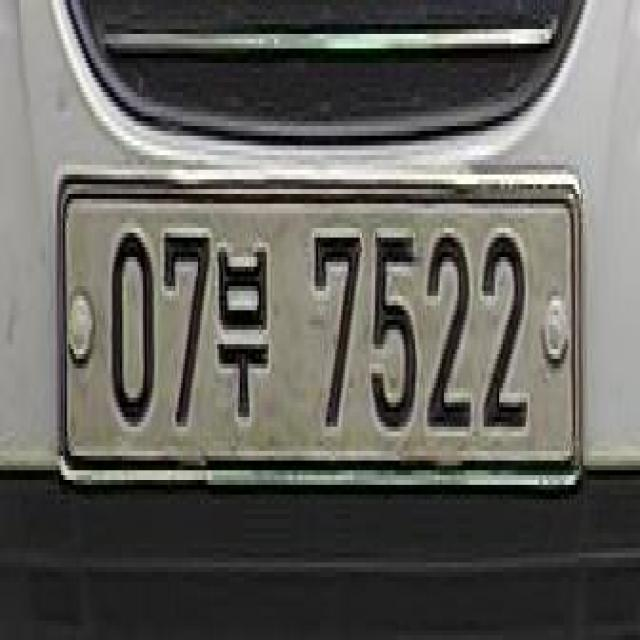illegal_plate: (59, 152, 588, 513)
